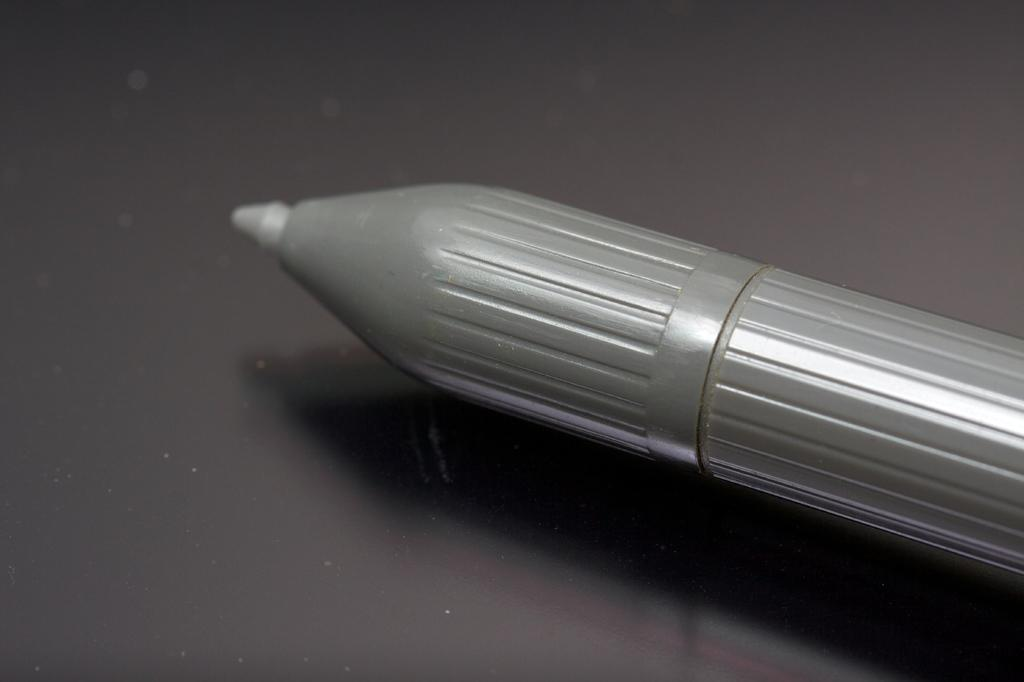pen: (230, 172, 1023, 596)
